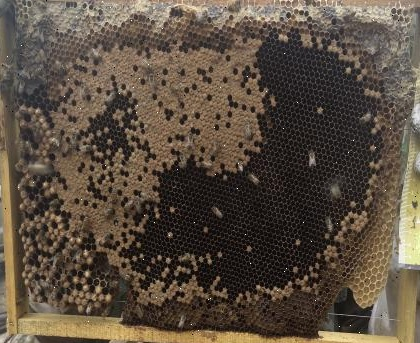cria: (15, 31, 382, 312)
